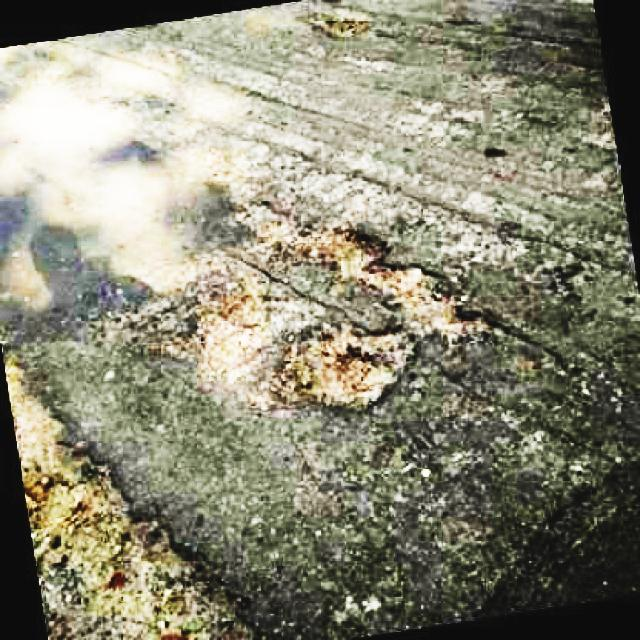pothole: (11, 375, 251, 640), (255, 204, 476, 344), (292, 318, 411, 414)
